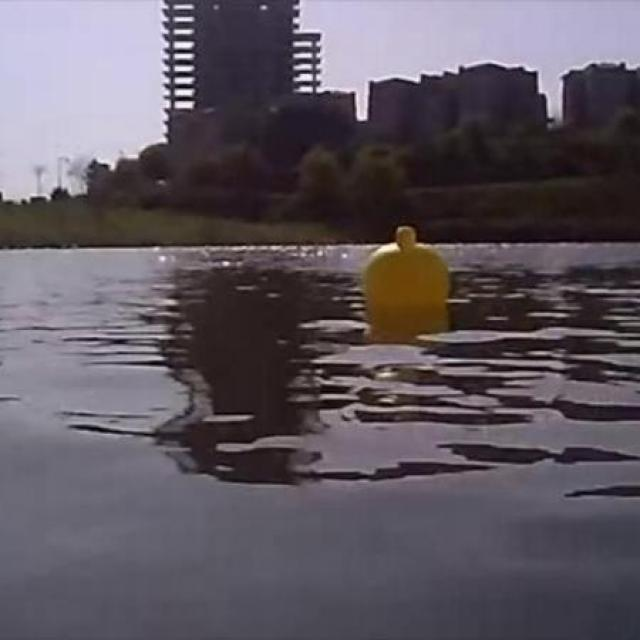buoy: (368, 225, 451, 310)
